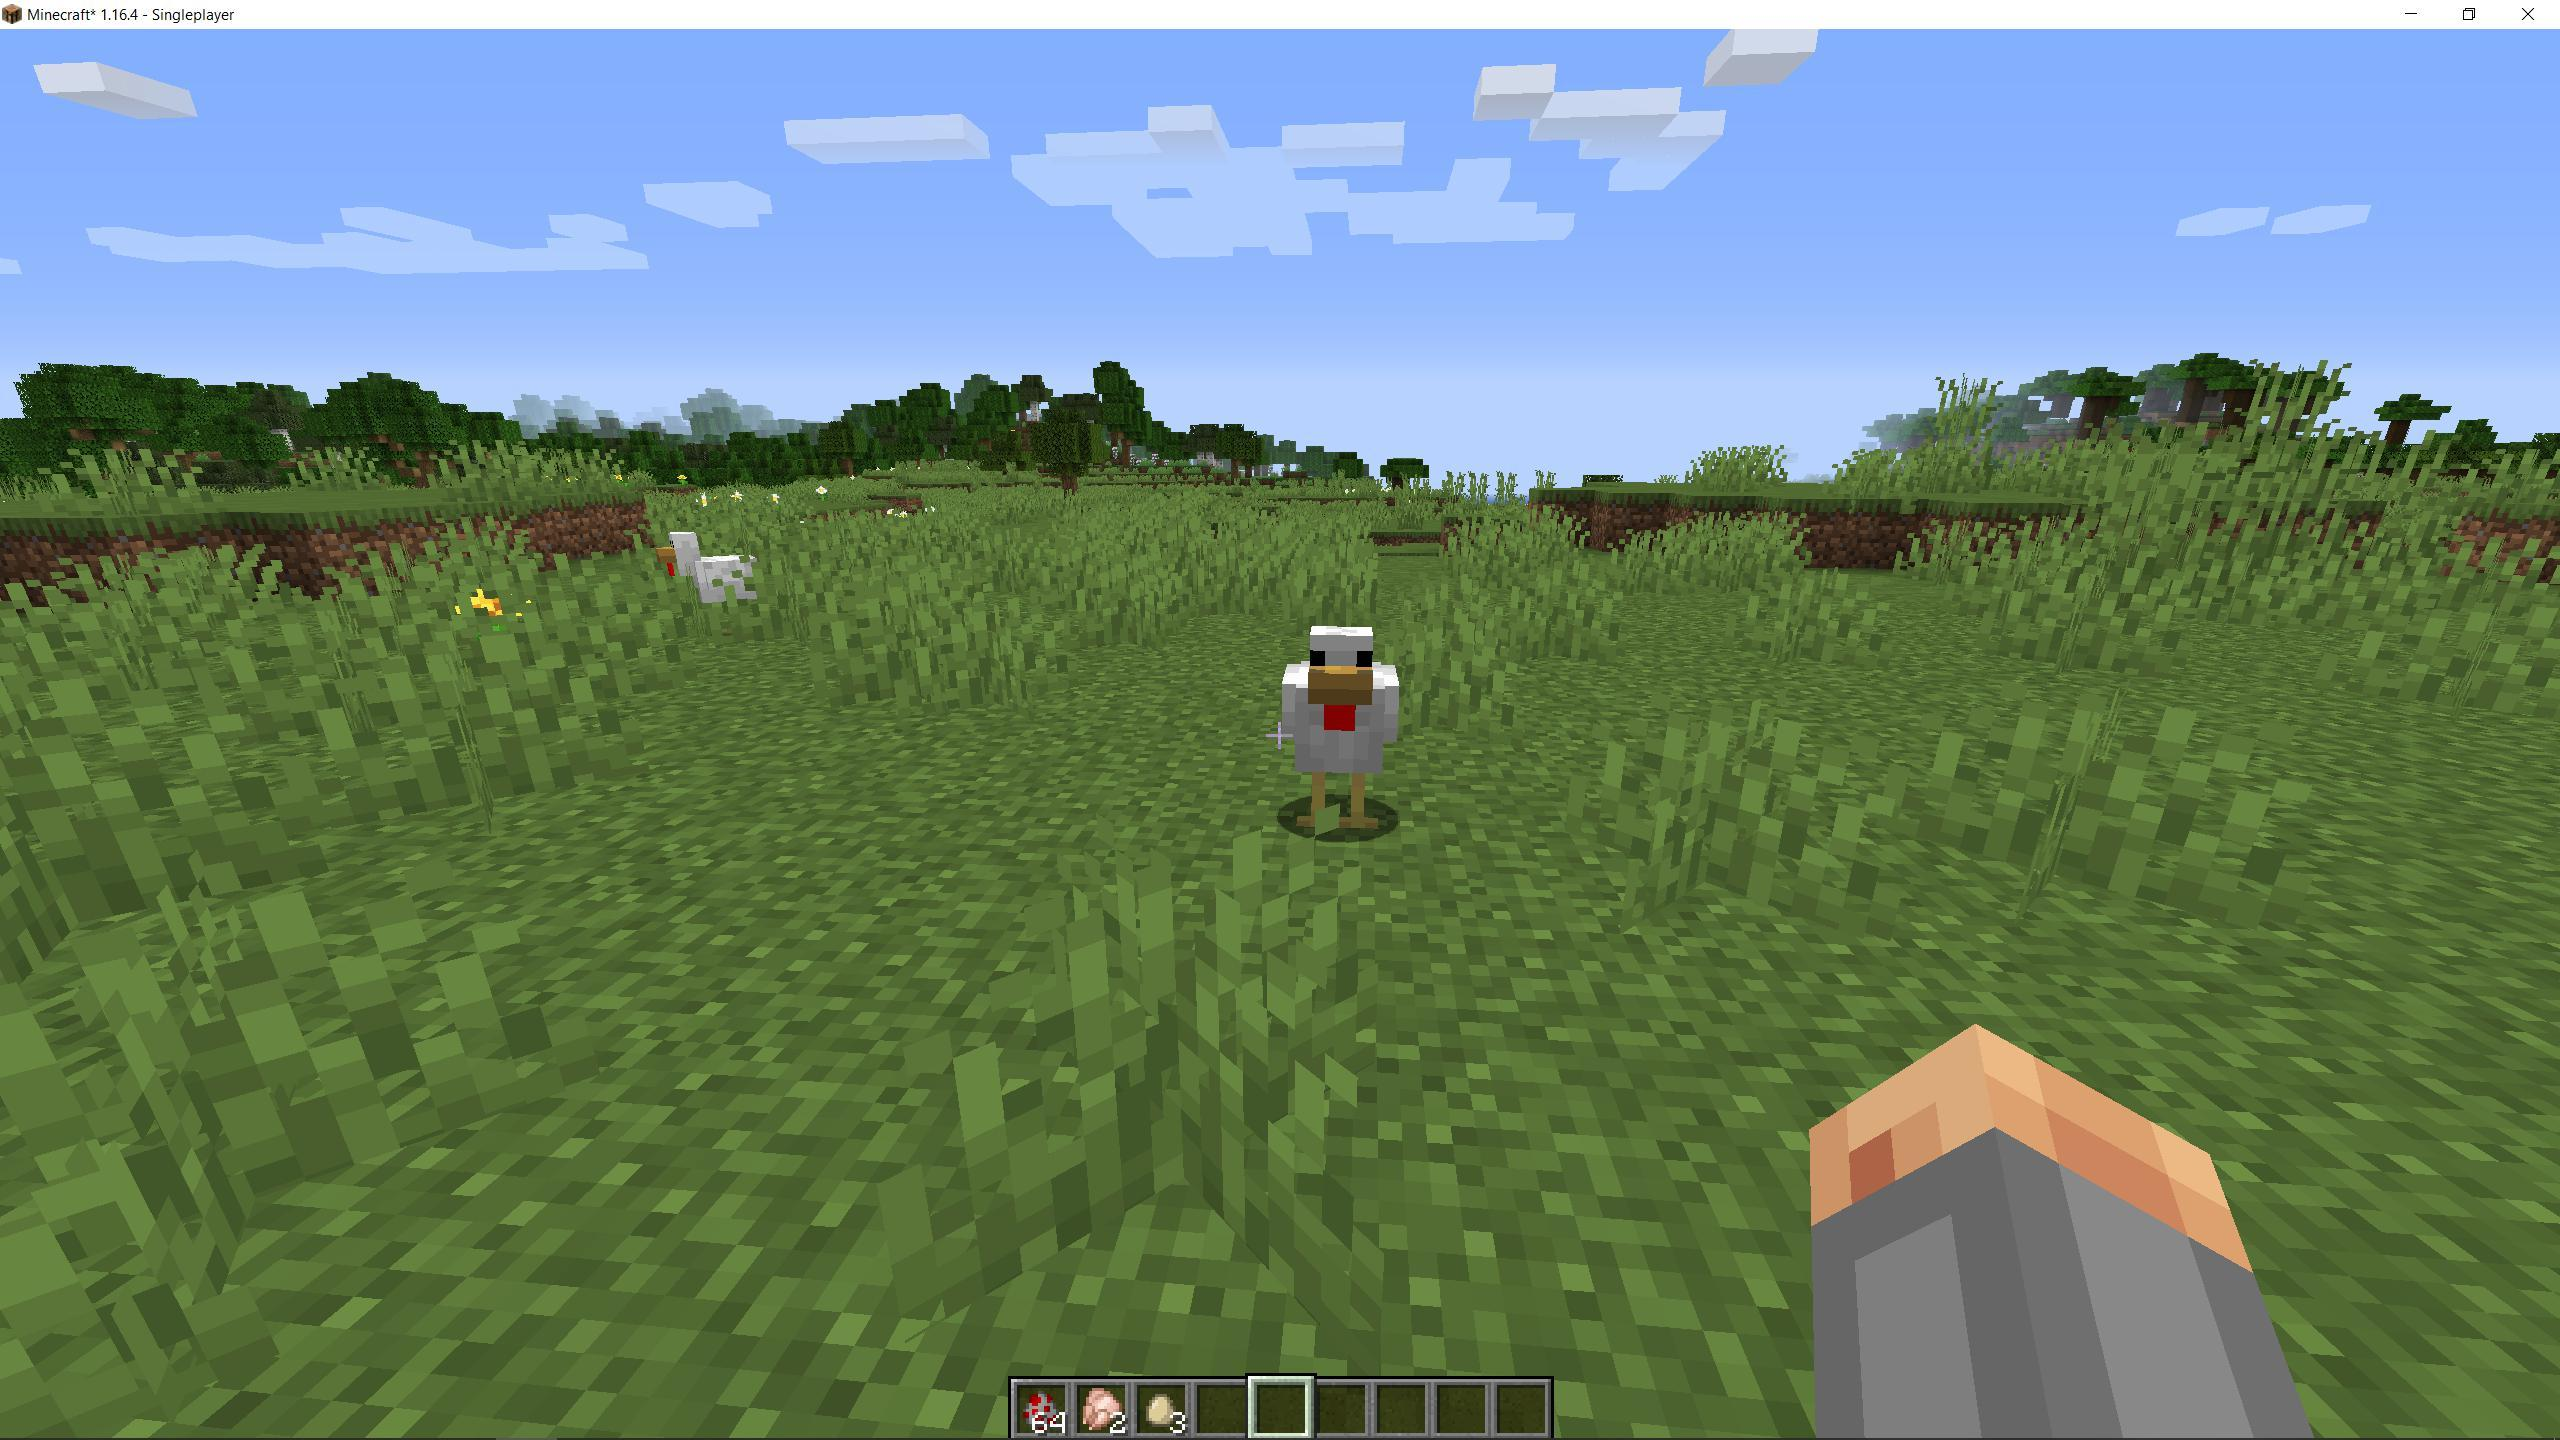chicken: (1278, 619, 1408, 844), (652, 520, 768, 638)
